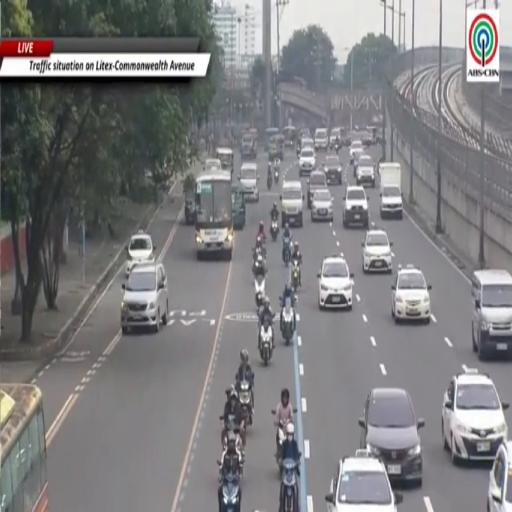bus: (0, 383, 48, 511), (195, 170, 233, 260), (264, 127, 279, 152)
car: (358, 388, 425, 485), (442, 368, 508, 463), (325, 450, 402, 511), (472, 269, 511, 360), (121, 263, 169, 333), (392, 265, 431, 324), (318, 255, 353, 310), (487, 441, 511, 511), (126, 230, 155, 277), (362, 230, 392, 273), (280, 181, 304, 228), (343, 186, 369, 228), (306, 171, 328, 209), (311, 188, 333, 221), (239, 163, 258, 201), (356, 154, 375, 187), (323, 155, 342, 184), (299, 147, 315, 177), (241, 133, 257, 159), (349, 140, 363, 165), (315, 128, 328, 151), (204, 158, 221, 173), (330, 127, 341, 149), (301, 137, 314, 150)
jeepney: (232, 185, 245, 230), (216, 148, 233, 174), (269, 135, 284, 159), (264, 127, 278, 151), (283, 125, 297, 147)
motorcycle: (280, 459, 299, 511), (220, 415, 243, 453), (222, 472, 240, 511), (276, 421, 288, 475), (259, 322, 273, 365), (239, 380, 252, 425), (282, 297, 294, 345), (255, 276, 265, 309), (291, 259, 300, 292), (282, 237, 291, 266), (270, 219, 278, 242), (267, 173, 272, 190), (274, 168, 279, 184), (335, 142, 339, 154), (297, 147, 300, 157)
truck: (379, 163, 402, 219)
